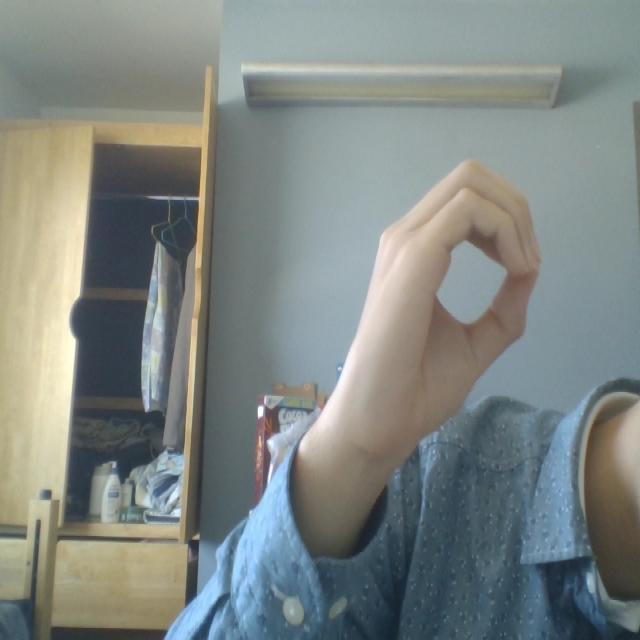O: (294, 123, 543, 482)
